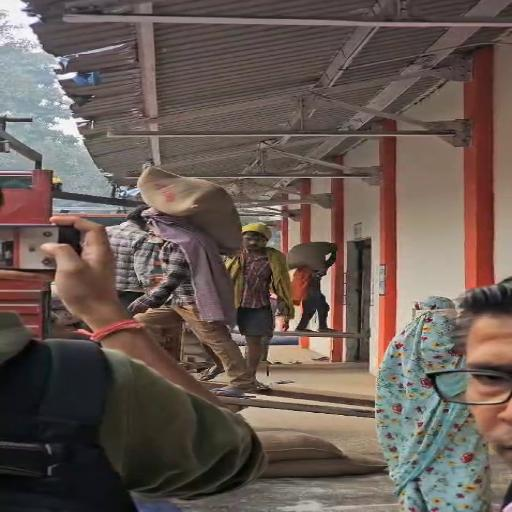bag: (136, 160, 252, 253)
